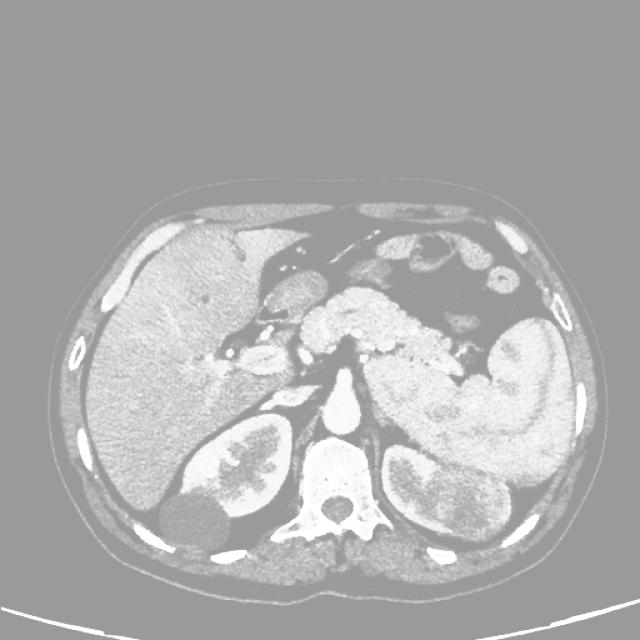TUMOR: (98, 282, 604, 535)
